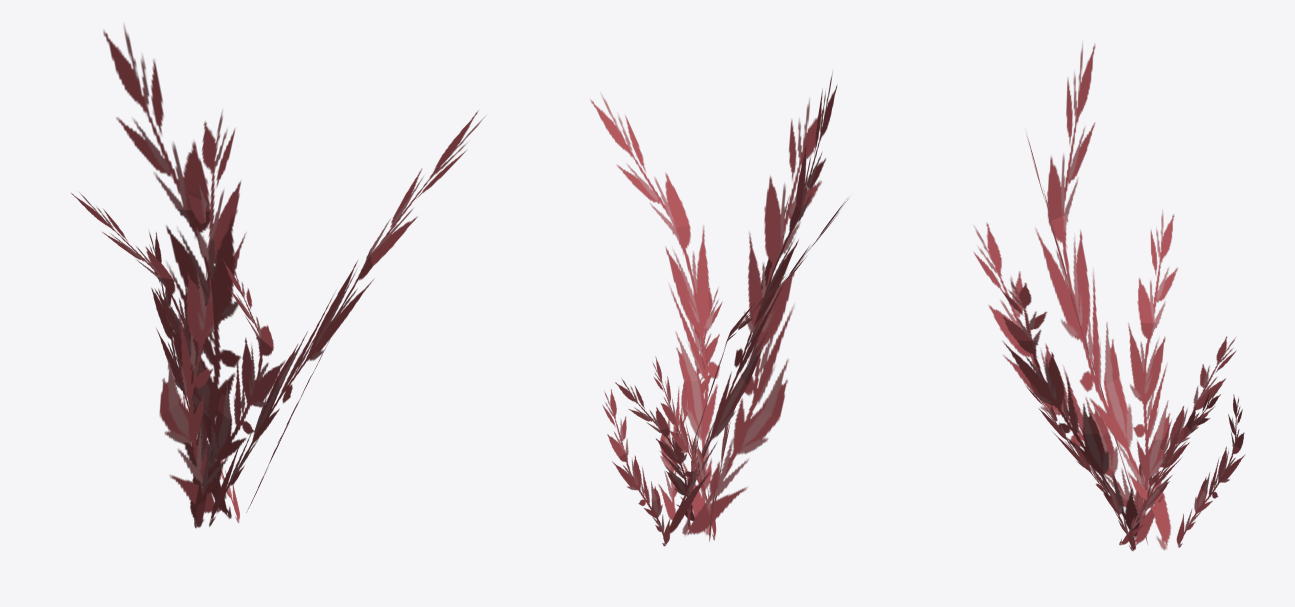
Rendered from Plant_8.glb.
3 views of the same model, side by side, from view 1: azimuth 30°, elevation 25°; view 2: azimuth 150°, elevation 25°; view 3: azimuth 270°, elevation 25° (orthographic). The views are drawn at different scales.
Parts seen in each view (by area): view 1: Plant_8; view 2: Plant_8; view 3: Plant_8.
Boxes of the visible parts, <box> form: Plant_8: <box>71,25,485,528</box>; Plant_8: <box>590,72,848,546</box>; Plant_8: <box>973,42,1245,551</box>.
Size of the model in its own units: 0.8175 by 1.14 by 0.7567.
Materials: 1 (1 with a texture image).
